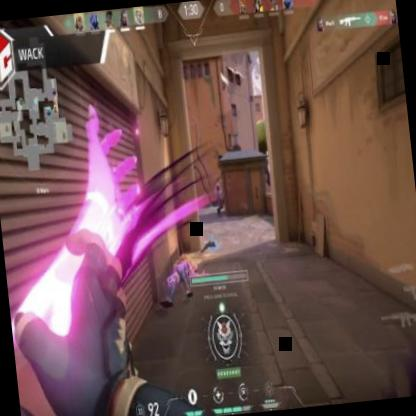enemy: (212, 180, 224, 219)
enemy_head: (216, 182, 219, 192)
